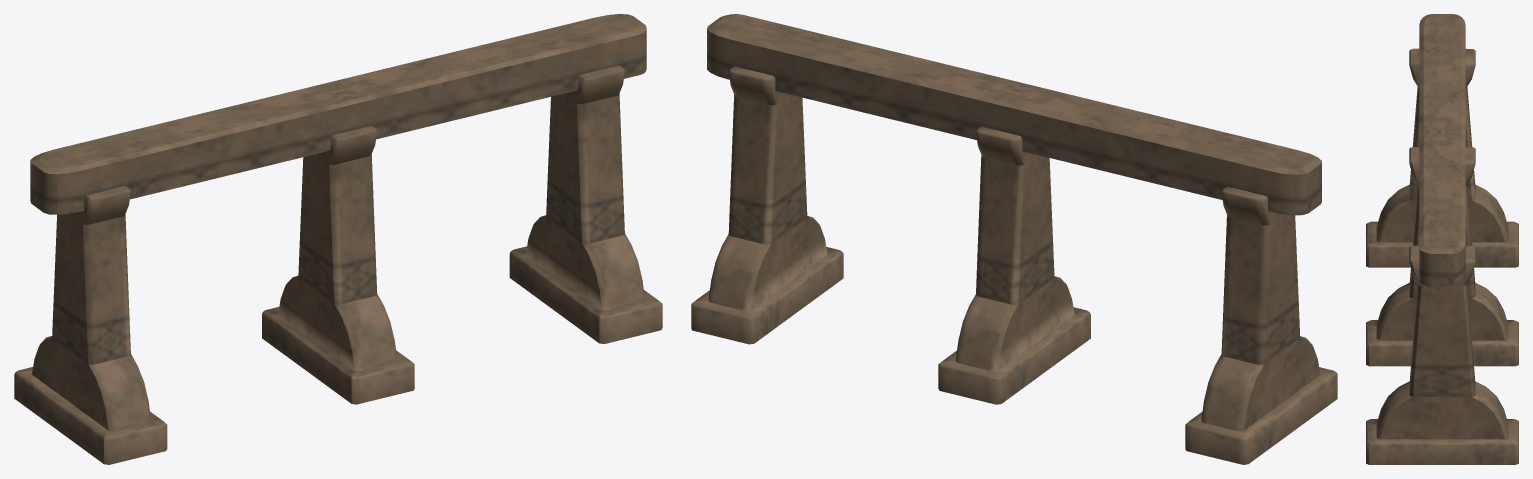
Rendered from t3_fence_stone_limestone.glb.
The picture shows the model from 3 angles, left to right: view 1: azimuth 30°, elevation 25°; view 2: azimuth 150°, elevation 25°; view 3: azimuth 270°, elevation 25°; orthographic projection. The views are drawn at different scales.
Parts seen in each view (by area): view 1: steppeprops_fence_01; view 2: steppeprops_fence_01; view 3: steppeprops_fence_01.
Boxes of the visible parts, x1,y1,x2,y2 form: steppeprops_fence_01: (14,14,662,464); steppeprops_fence_01: (691,14,1337,464); steppeprops_fence_01: (1366,14,1518,464).
Size of the model in its own units: 2.37 by 1.02 by 0.6379.
1 material, 1 textured.
